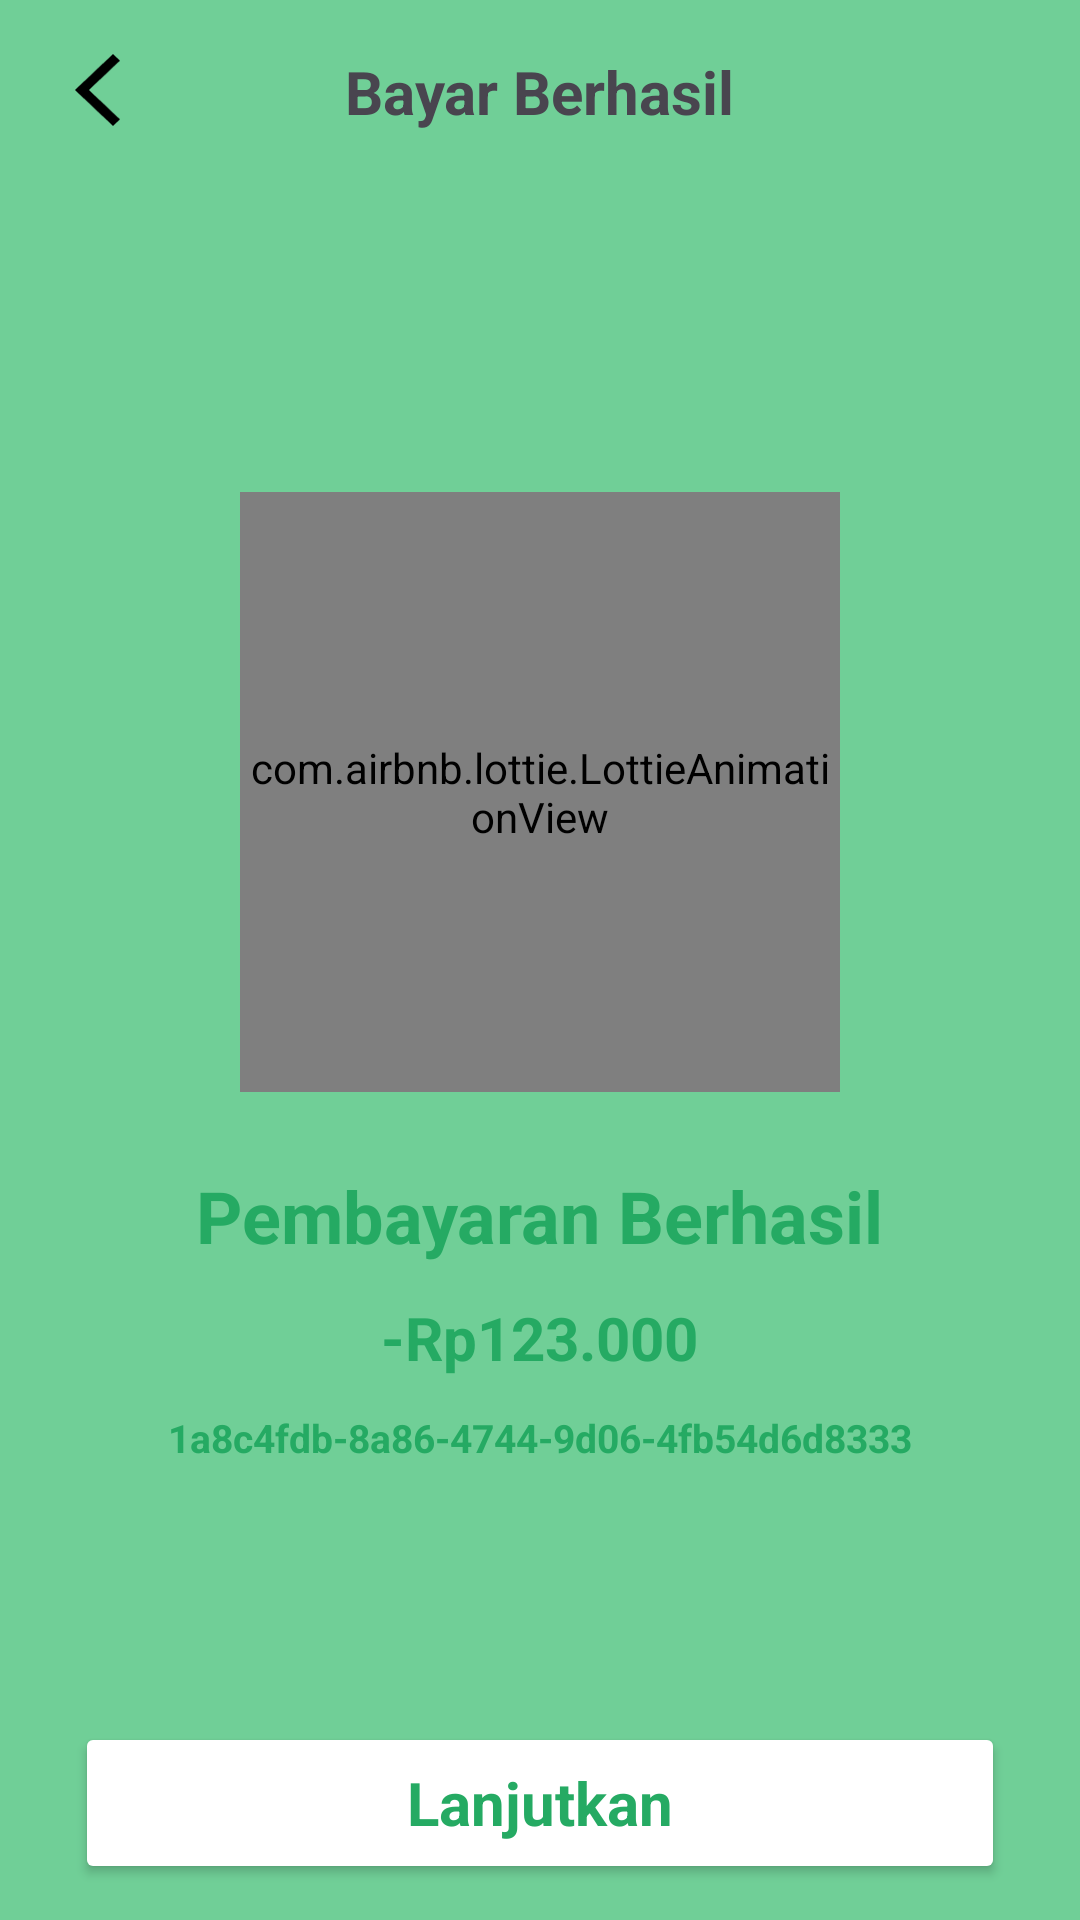

Named icons in this screenshot (1080px x 1920px) and their bounding boxes, (x1, y1, x2, y2):
iconback: (75, 54, 120, 126)
